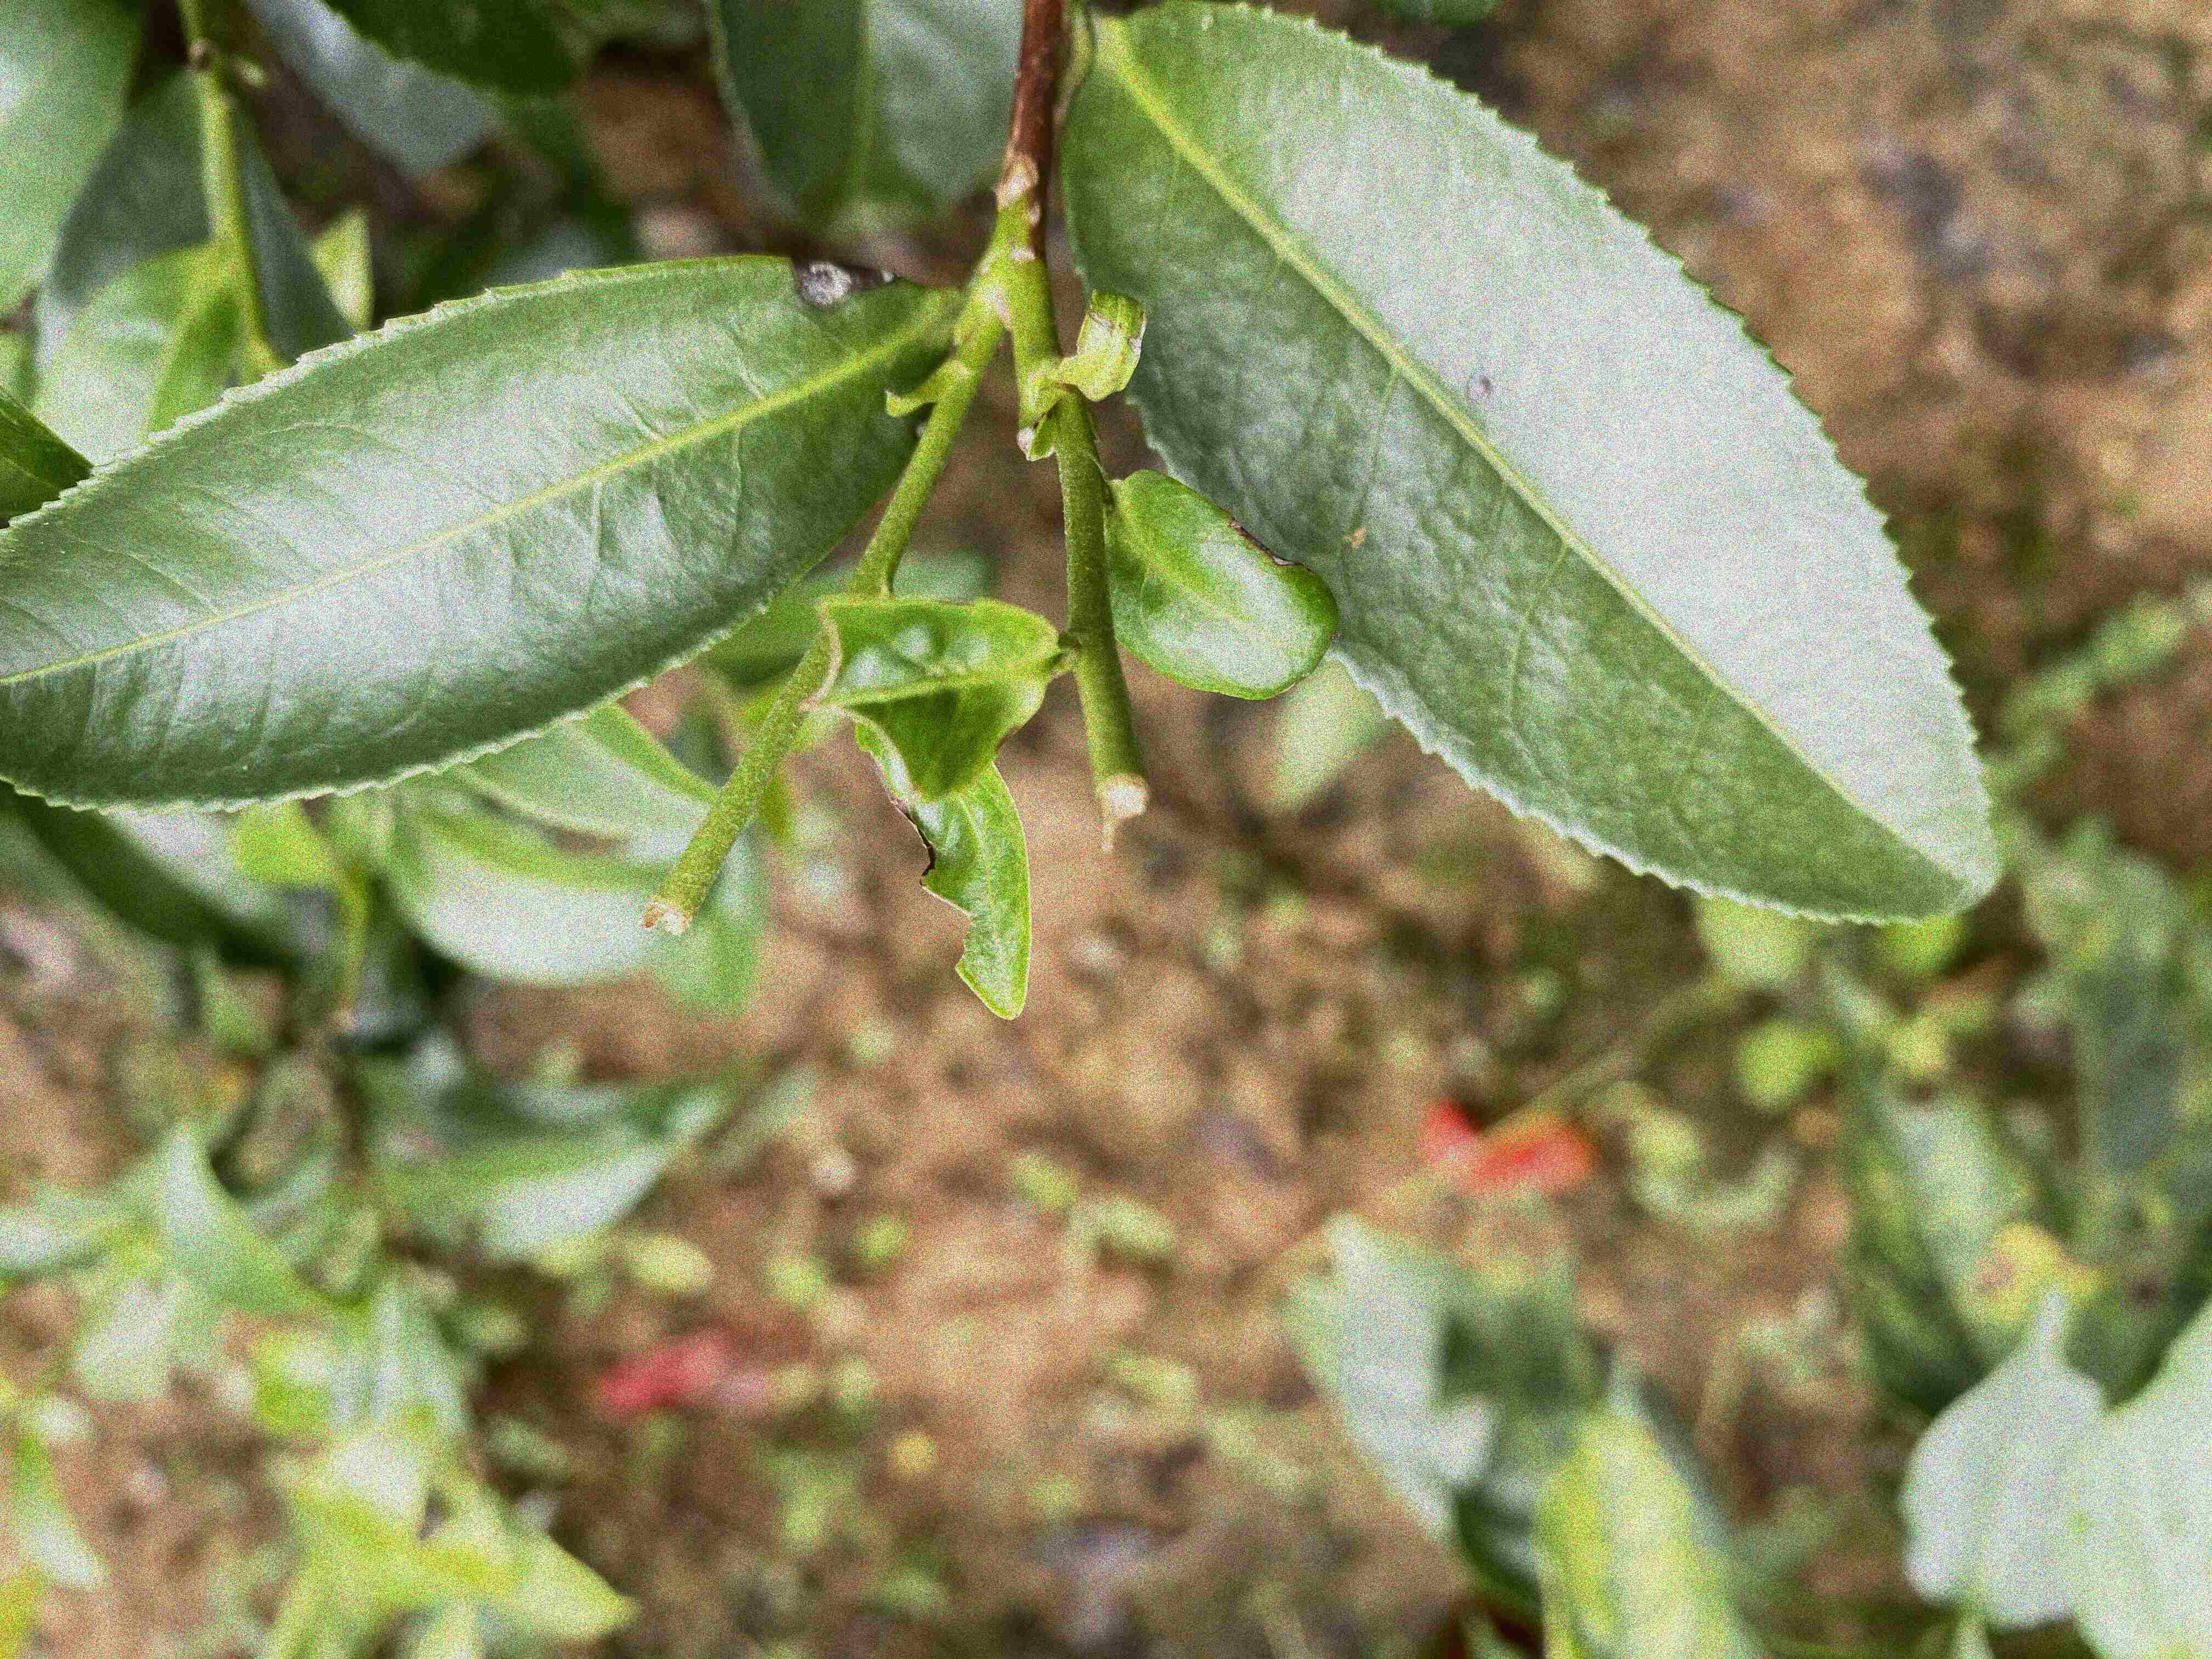chihuo_high: (803, 589, 1069, 798), (852, 728, 1031, 1019)
tanju_high: (3, 251, 958, 814)
tanju_low: (1057, 0, 2005, 924)
